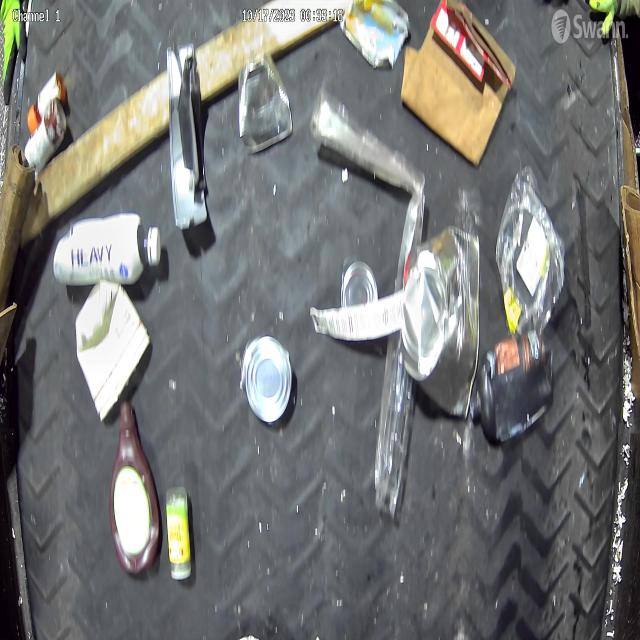can: (402, 224, 479, 419), (238, 53, 292, 154), (241, 332, 294, 428), (341, 260, 378, 310)
non_white_jug: (471, 331, 552, 444), (108, 402, 161, 573)
